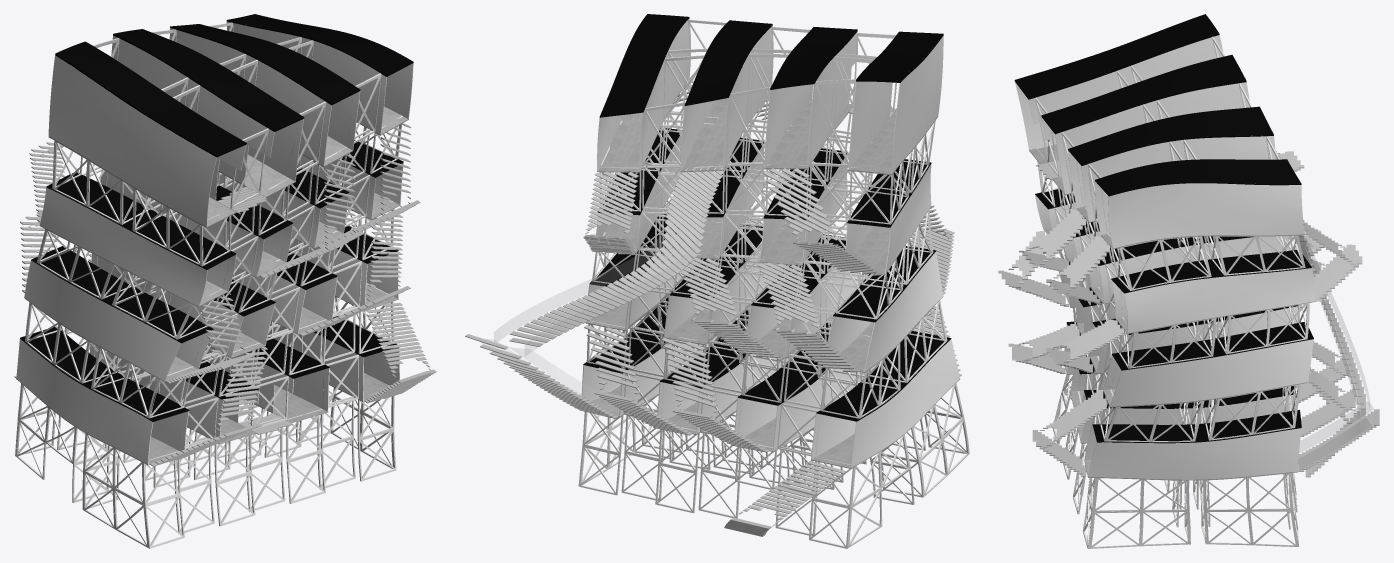
The picture shows the model from 3 angles, left to right: view 1: azimuth 30°, elevation 25°; view 2: azimuth 150°, elevation 25°; view 3: azimuth 270°, elevation 25°; orthographic projection. The views are drawn at different scales.
Visible parts, largest first — view 1: KUTUADAMS; view 2: KUTUADAMS; view 3: KUTUADAMS.
Part boxes in pixels (x1=…): KUTUADAMS: x1=14, y1=14, x2=436, y2=548; KUTUADAMS: x1=465, y1=14, x2=969, y2=548; KUTUADAMS: x1=998, y1=14, x2=1379, y2=548.
Bounding box in the file's own units: 54.19 × 65.75 × 55.6.
Materials: 6 (1 with a texture image).
